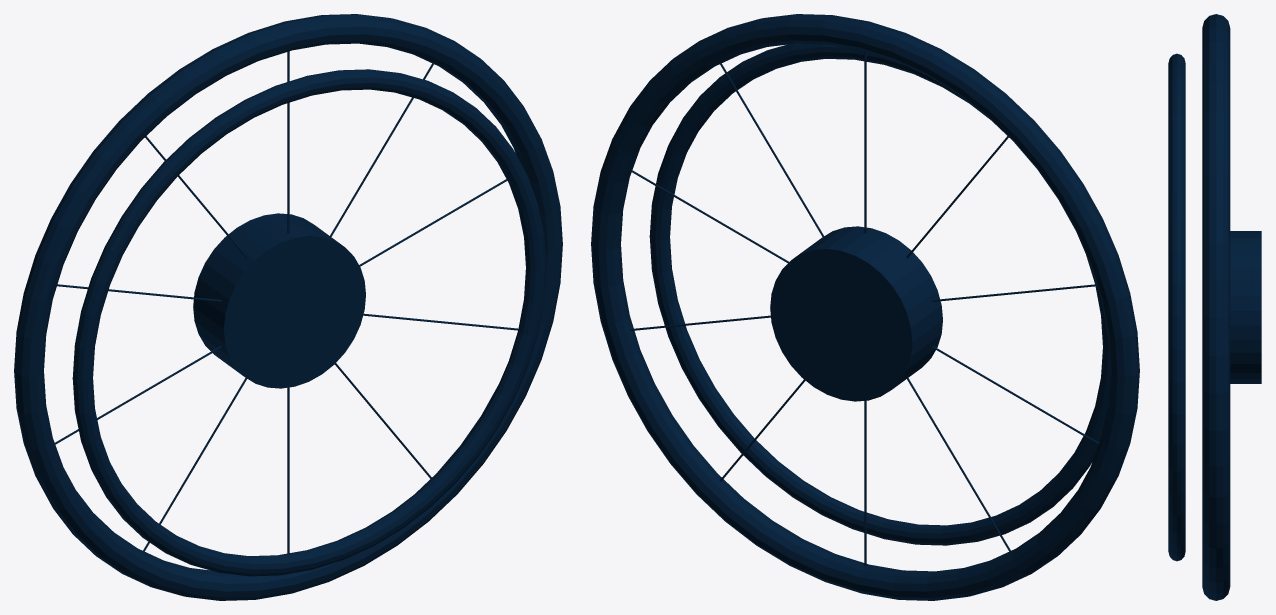
File: tire.dae
The picture shows the model from 3 angles, left to right: view 1: azimuth 30°, elevation 25°; view 2: azimuth 150°, elevation 25°; view 3: azimuth 270°, elevation 25°; orthographic projection. The views are drawn at different scales.
Parts seen in each view (by area): view 1: ベジエ円.002; view 2: ベジエ円.002; view 3: ベジエ円.002.
Part boxes in pixels (bbox=[...]): ベジエ円.002: bbox=[14, 14, 562, 600]; ベジエ円.002: bbox=[591, 14, 1139, 600]; ベジエ円.002: bbox=[1168, 14, 1261, 600].
Bounding box in the file's own units: 613 × 97.24 × 613.
